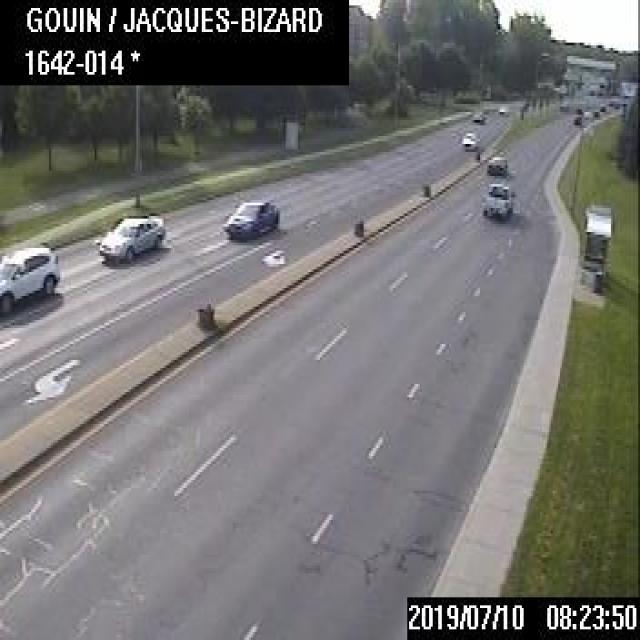vehicle: (0, 245, 58, 315), (98, 215, 164, 262), (222, 198, 278, 237), (479, 180, 514, 217), (486, 154, 506, 172), (460, 130, 477, 148), (471, 110, 484, 123), (497, 104, 508, 114), (558, 100, 568, 109), (582, 108, 589, 116), (571, 116, 580, 122), (592, 108, 598, 116), (574, 105, 581, 111), (598, 102, 604, 109)
